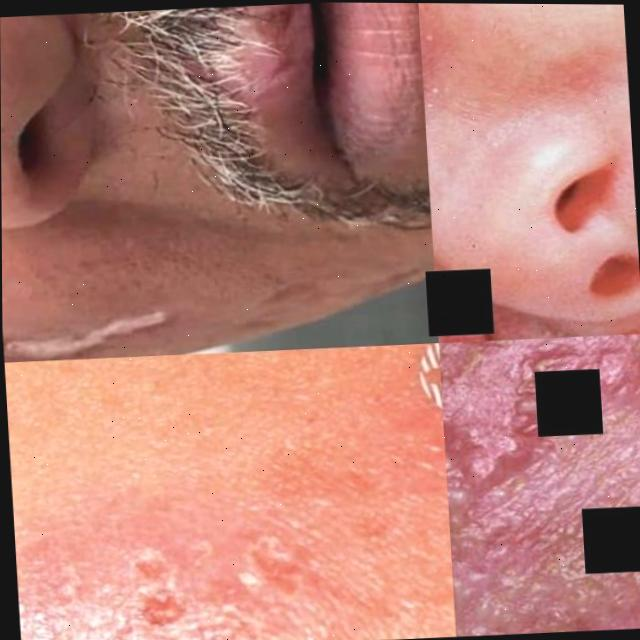lupus-detected: (8, 412, 456, 640), (418, 3, 640, 344), (438, 331, 640, 638), (206, 2, 426, 155), (2, 262, 241, 363)
